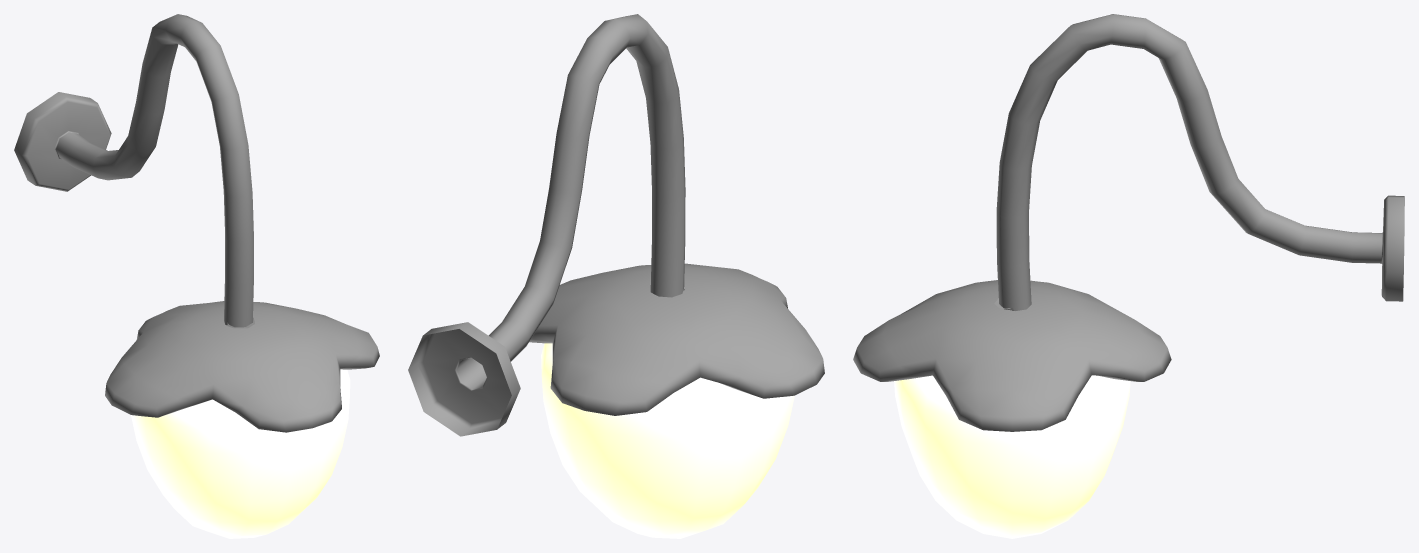
Rendered from Lantern_1.glb.
3 views of the same model, side by side, from view 1: azimuth 30°, elevation 25°; view 2: azimuth 150°, elevation 25°; view 3: azimuth 270°, elevation 25° (orthographic). The views are drawn at different scales.
Parts seen in each view (by area): view 1: Lantern_1; view 2: Lantern_1; view 3: Lantern_1.
Part boxes in pixels (left/top/right/bottom): Lantern_1: left=14, top=14, right=379, bottom=538; Lantern_1: left=408, top=14, right=824, bottom=538; Lantern_1: left=853, top=14, right=1404, bottom=538.
Bounding box in the file's own units: 0.299 × 0.5218 × 0.5056.
2 materials, 1 textured.
